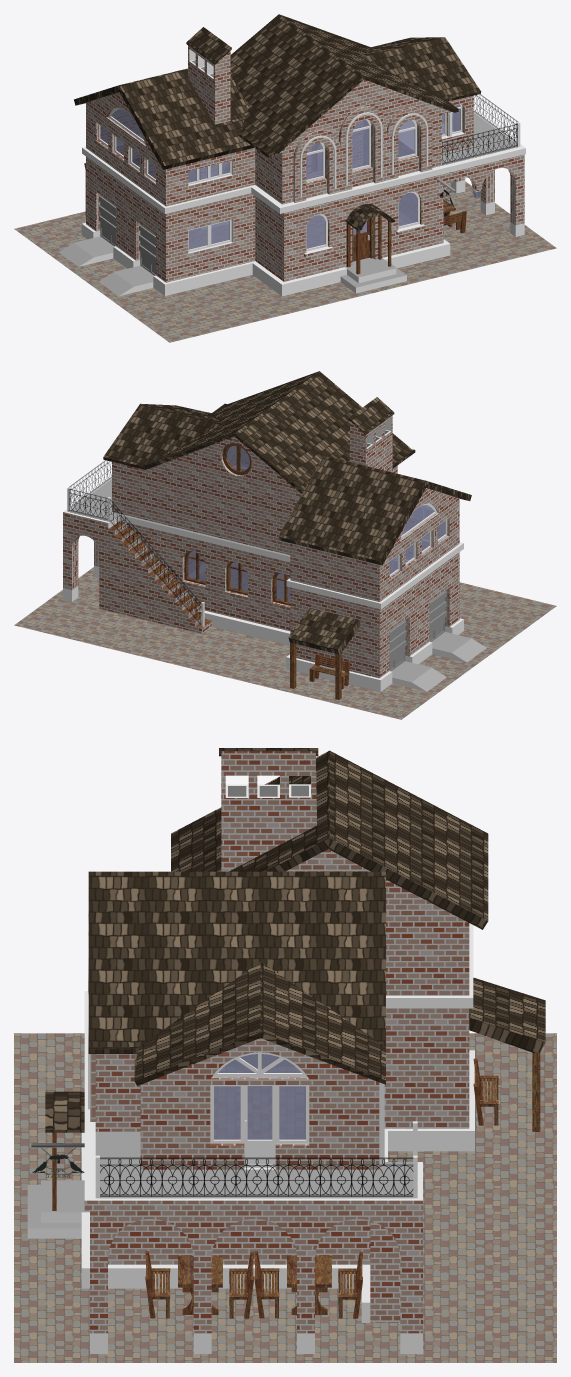
3 views of the same model, one above another, from view 1: azimuth 30°, elevation 25°; view 2: azimuth 150°, elevation 25°; view 3: azimuth 270°, elevation 25° (orthographic). The views are drawn at different scales.
Visible parts, largest first — view 1: Tavern_ext2_2, Plane_6, Tabele.001_4; view 2: Tavern_ext2_2, Plane_6, Bench_5; view 3: Tavern_ext2_2, Plane_6, Tabele.001_4, Tabele_3, Bench_5.
Boxes of the visible parts, x1=… form: Tavern_ext2_2: x1=59, y1=14, x2=525, y2=296; Plane_6: x1=14, y1=181, x2=556, y2=342; Tabele.001_4: x1=443, y1=199, x2=466, y2=233; Tavern_ext2_2: x1=63, y1=371, x2=486, y2=699; Plane_6: x1=14, y1=563, x2=556, y2=719; Bench_5: x1=309, y1=654, x2=349, y2=688; Tavern_ext2_2: x1=27, y1=748, x2=545, y2=1353; Plane_6: x1=14, y1=1033, x2=556, y2=1362; Tabele.001_4: x1=145, y1=1251, x2=253, y2=1318; Tabele_3: x1=254, y1=1251, x2=362, y2=1318; Bench_5: x1=473, y1=1058, x2=498, y2=1125.
Size of the model in its own units: 17.35 by 9.52 by 12.07.
Materials: 11 (6 with a texture image).
